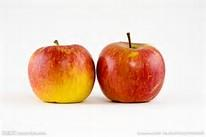apple: (48, 3, 141, 108), (25, 33, 96, 109)
